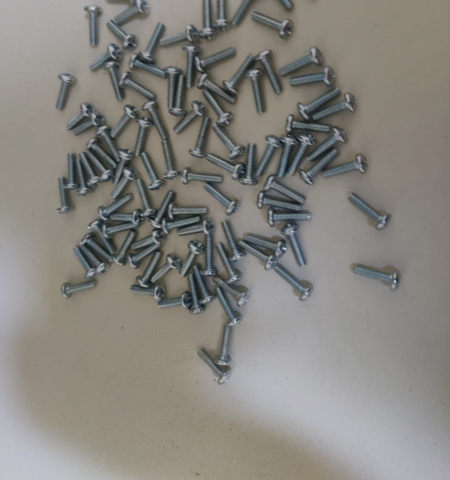shortscrew: (274, 265, 315, 303), (349, 194, 391, 231), (307, 126, 349, 163), (297, 88, 342, 121), (300, 149, 341, 184), (313, 94, 359, 123), (280, 47, 325, 76), (224, 54, 255, 96), (198, 348, 233, 385), (213, 122, 246, 160), (251, 11, 295, 39), (353, 264, 400, 290), (321, 154, 369, 179), (265, 175, 306, 204), (202, 90, 234, 127), (198, 74, 237, 104), (204, 184, 240, 216), (255, 50, 281, 94), (256, 135, 283, 177), (213, 277, 250, 307), (240, 241, 277, 271), (215, 286, 242, 327), (289, 134, 315, 176), (149, 190, 176, 230), (282, 223, 306, 267), (246, 236, 288, 261), (107, 19, 139, 51), (276, 135, 299, 179), (88, 220, 116, 256), (195, 48, 237, 72), (222, 221, 246, 263), (142, 101, 168, 139), (139, 25, 164, 64), (189, 117, 212, 159), (179, 241, 205, 278), (83, 233, 115, 263), (98, 195, 134, 221), (87, 138, 118, 168), (80, 243, 109, 275), (150, 254, 182, 283), (86, 151, 115, 183), (112, 230, 137, 267), (90, 44, 123, 72), (111, 105, 139, 138), (267, 208, 313, 228), (290, 66, 336, 86), (141, 151, 164, 191), (218, 244, 241, 284), (129, 54, 165, 79), (137, 252, 161, 289), (115, 0, 149, 26), (245, 69, 265, 113), (258, 192, 302, 212), (136, 179, 158, 219), (214, 324, 234, 366), (187, 273, 207, 315), (103, 61, 124, 101), (231, 0, 262, 27), (160, 25, 198, 47), (73, 111, 105, 137), (169, 75, 188, 118), (240, 144, 259, 187), (285, 115, 333, 132), (66, 103, 95, 131), (161, 140, 181, 180), (128, 244, 160, 269), (134, 117, 153, 158), (165, 67, 183, 110), (84, 5, 102, 47), (183, 46, 201, 88), (75, 246, 97, 280), (80, 153, 102, 187), (61, 280, 98, 300), (56, 74, 76, 111), (181, 168, 224, 185), (167, 203, 209, 220), (178, 218, 215, 237), (199, 0, 216, 41), (213, 0, 234, 32), (158, 291, 193, 310), (130, 283, 166, 301), (76, 158, 93, 196), (133, 230, 165, 250), (58, 177, 73, 214), (65, 154, 79, 190), (259, 0, 295, 11), (105, 0, 142, 4)
